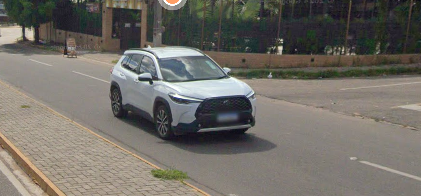car: (104, 41, 260, 144)
